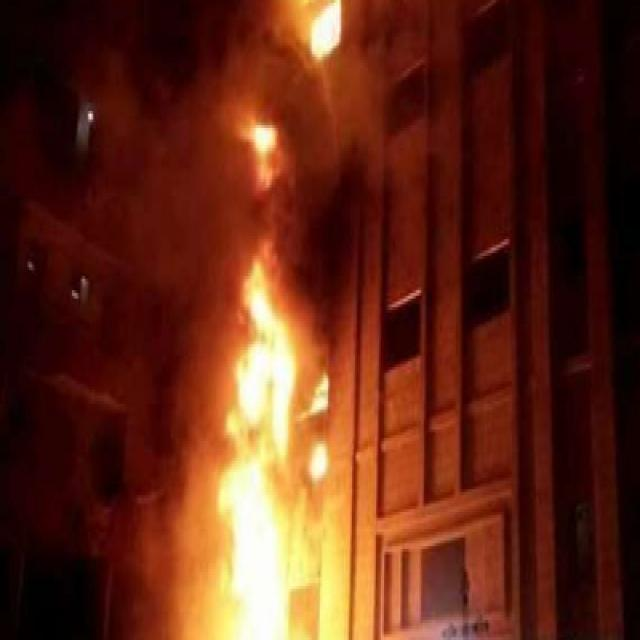Fire: (226, 265, 298, 634)
Smoke: (83, 111, 246, 629)
